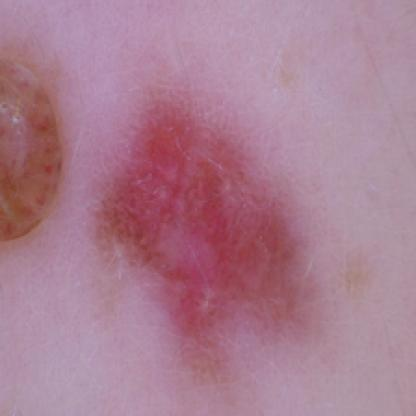Skin_Cancer-Malignant: (98, 100, 316, 376)
